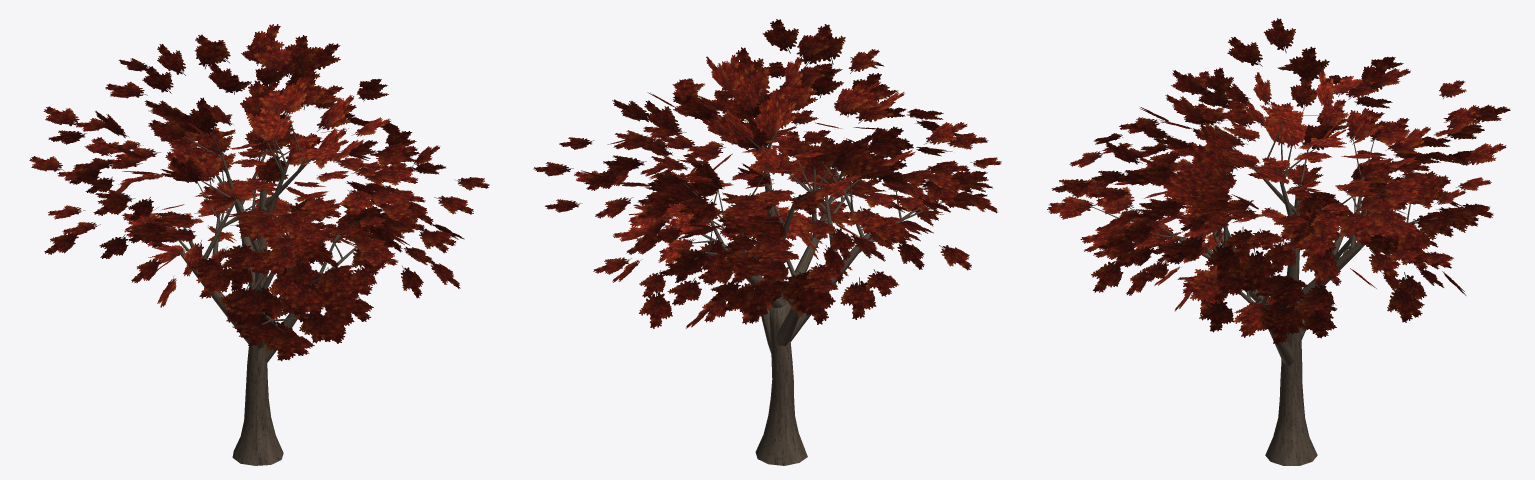
The model's file is park_maple_red.glb.
The picture shows the model from 3 angles, left to right: view 1: azimuth 30°, elevation 25°; view 2: azimuth 150°, elevation 25°; view 3: azimuth 270°, elevation 25°; orthographic projection.
Parts seen in each view (by area): view 1: park_maple_red; view 2: park_maple_red; view 3: park_maple_red.
Boxes of the visible parts, x1,y1,x2,y2 form: park_maple_red: (29,24,489,465); park_maple_red: (533,19,1001,465); park_maple_red: (1047,18,1510,465).
Bounding box in the file's own units: 9.74 × 9.34 × 10.05.
Materials: 2 (2 with a texture image).
